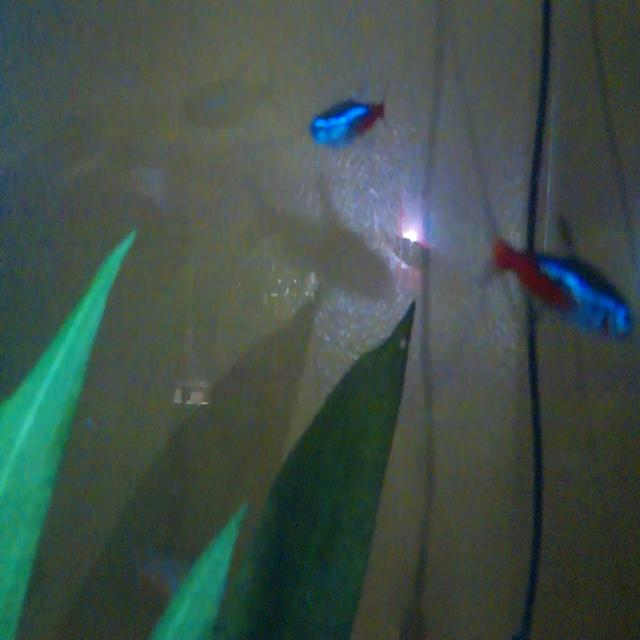fish: (494, 222, 635, 350), (300, 75, 394, 164)
